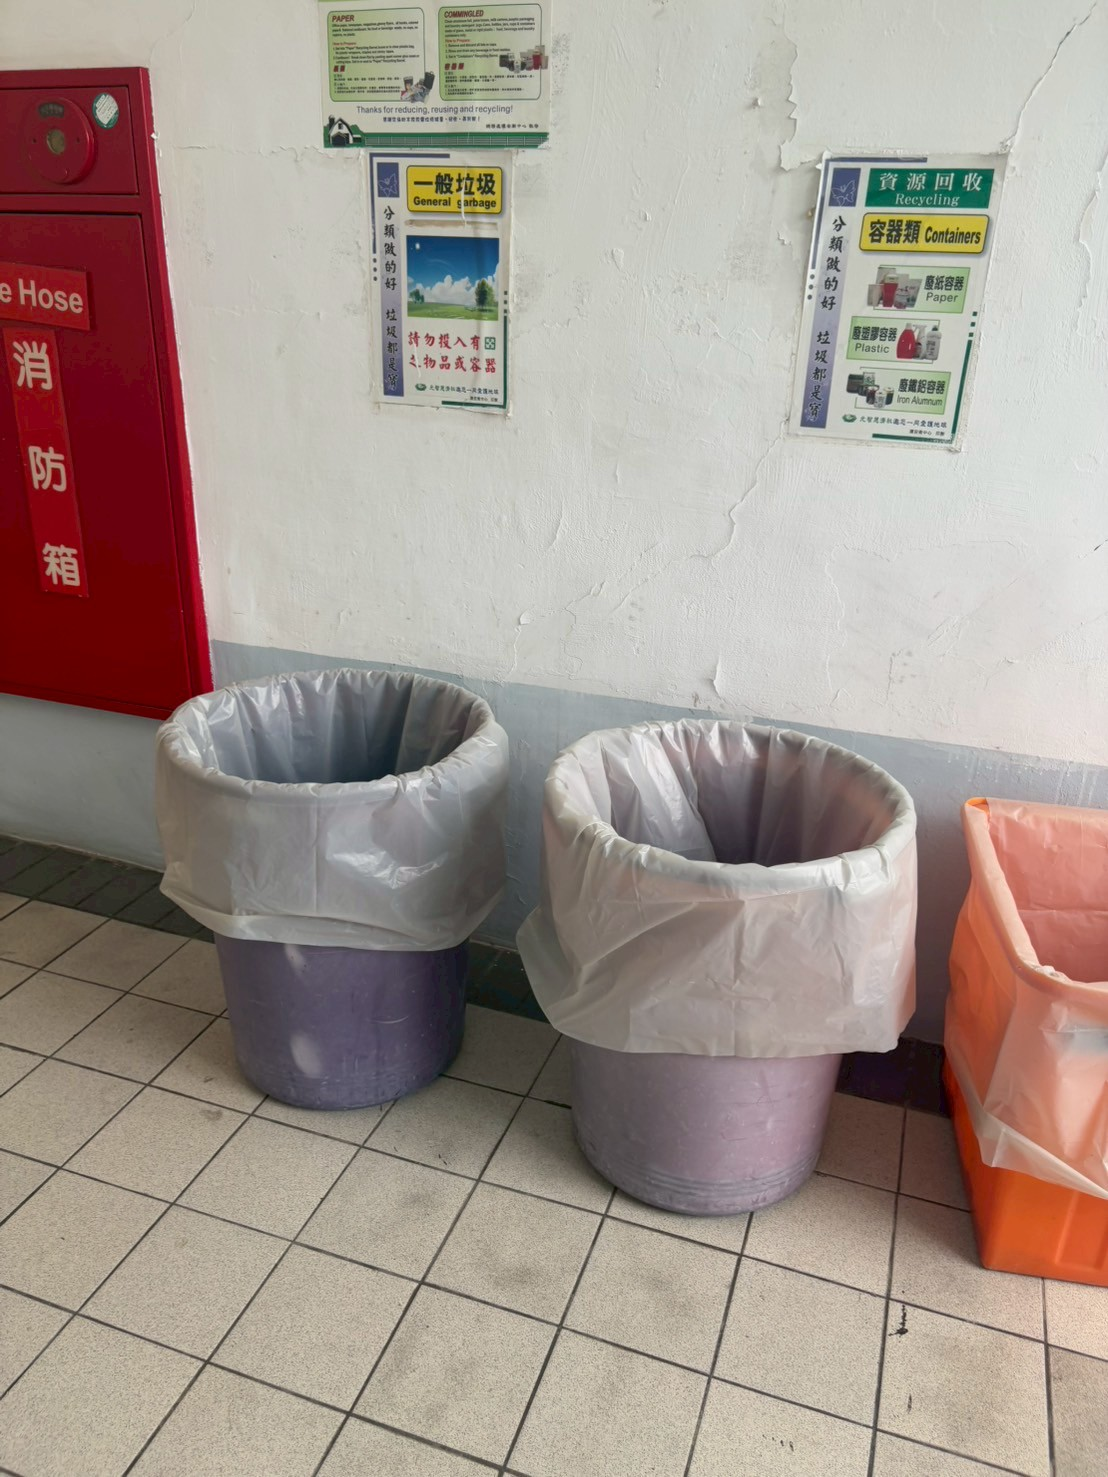normal_bin: (532, 698, 930, 1241), (144, 644, 530, 1152)
